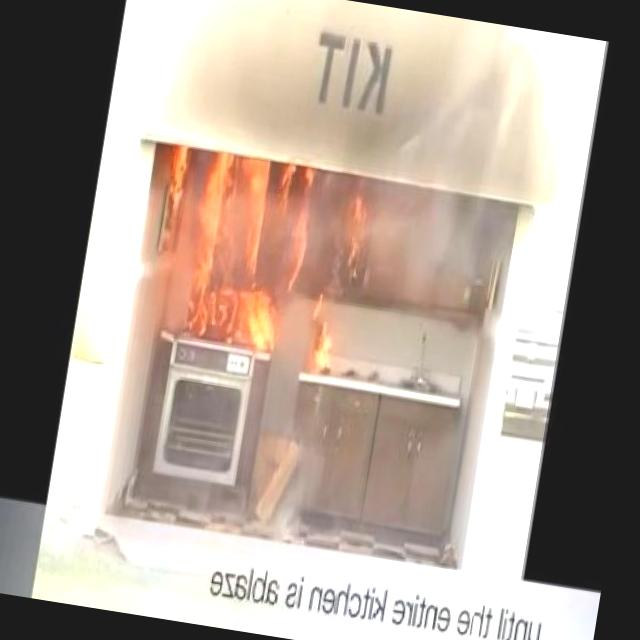fire: (126, 140, 394, 384)
smoke: (193, 0, 551, 198), (376, 182, 516, 372)
